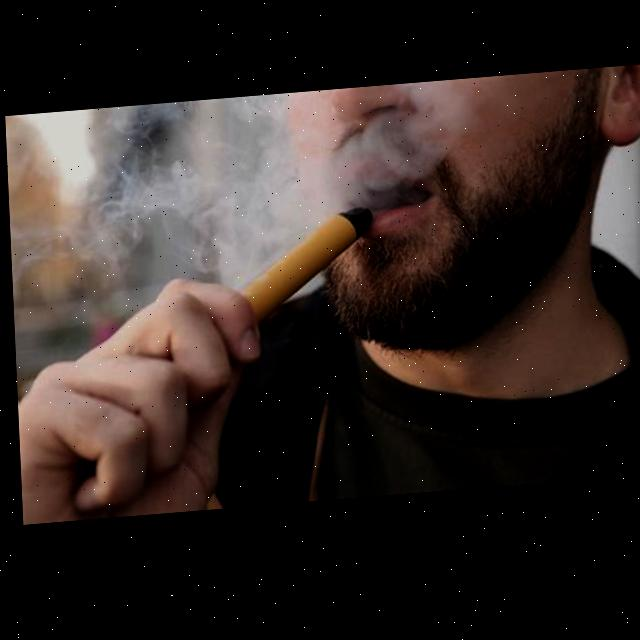vape: (236, 210, 372, 326)
